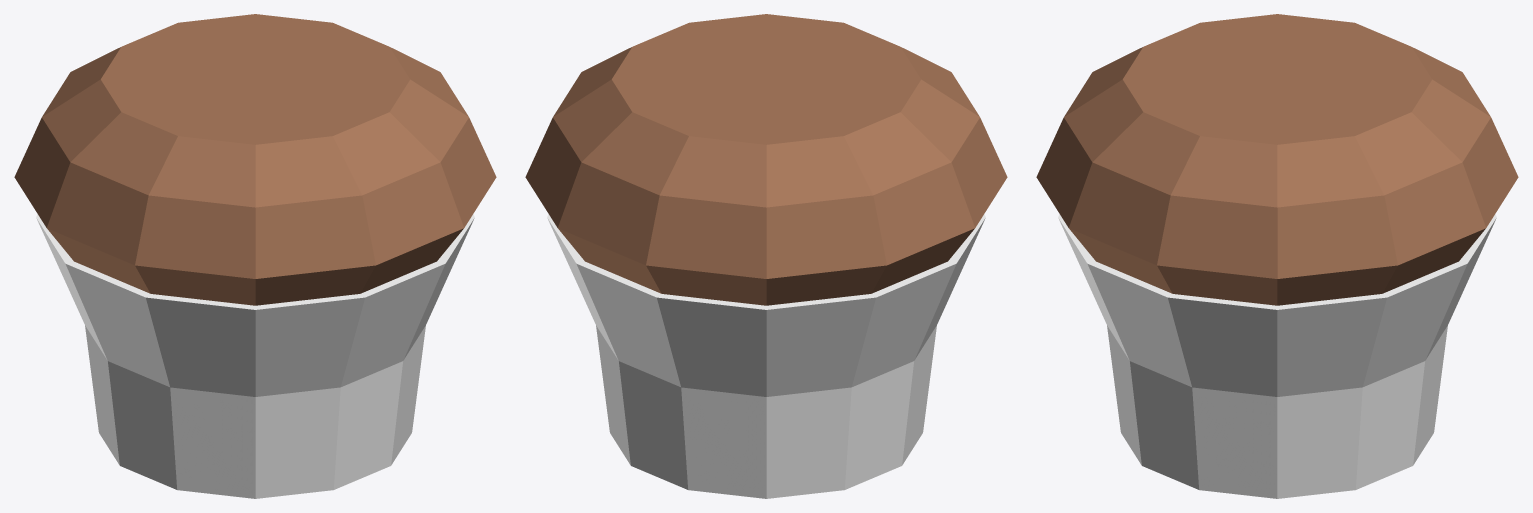
File: CandylandCupcake_06.fbx
3 views of the same model, side by side, from view 1: azimuth 30°, elevation 25°; view 2: azimuth 150°, elevation 25°; view 3: azimuth 270°, elevation 25° (orthographic).
Parts seen in each view (by area): view 1: CandylandCupcake_06; view 2: CandylandCupcake_06; view 3: CandylandCupcake_06.
Boxes of the visible parts, x1=… form: CandylandCupcake_06: x1=14, y1=14, x2=496, y2=498; CandylandCupcake_06: x1=525, y1=14, x2=1007, y2=498; CandylandCupcake_06: x1=1036, y1=14, x2=1518, y2=498.
Bounding box in the file's own units: 0.4979 × 0.4026 × 0.4979.
